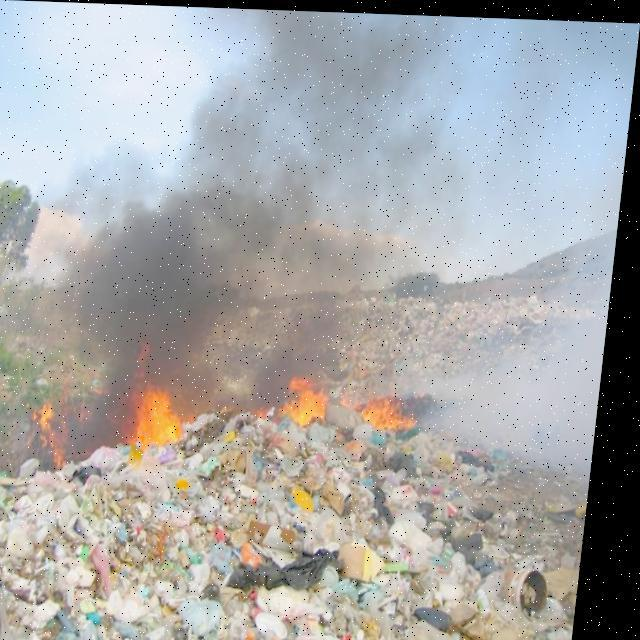Fire: (136, 378, 200, 456), (284, 362, 346, 424), (365, 385, 427, 437), (44, 402, 80, 470)
